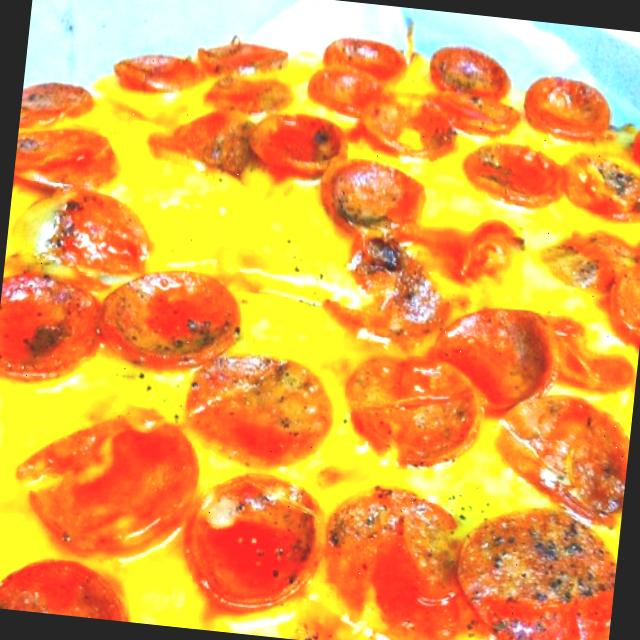pepperoni: (304, 478, 610, 640), (419, 300, 640, 515), (8, 403, 206, 570), (120, 84, 359, 208), (320, 154, 447, 358), (182, 468, 332, 636), (336, 338, 494, 480), (175, 344, 344, 476), (90, 261, 248, 384), (5, 179, 162, 292), (115, 20, 294, 111), (444, 116, 574, 222), (0, 265, 106, 388), (330, 78, 470, 165), (303, 27, 406, 134), (0, 550, 149, 623), (12, 116, 124, 204), (555, 135, 640, 234), (509, 70, 615, 139), (17, 64, 100, 148), (426, 37, 512, 111)
pizza: (0, 37, 640, 640)
